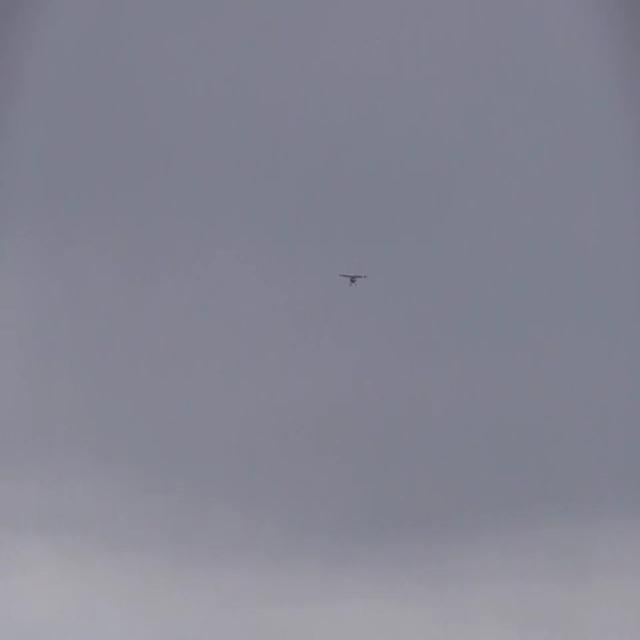AirPlane: (327, 258, 380, 298)
